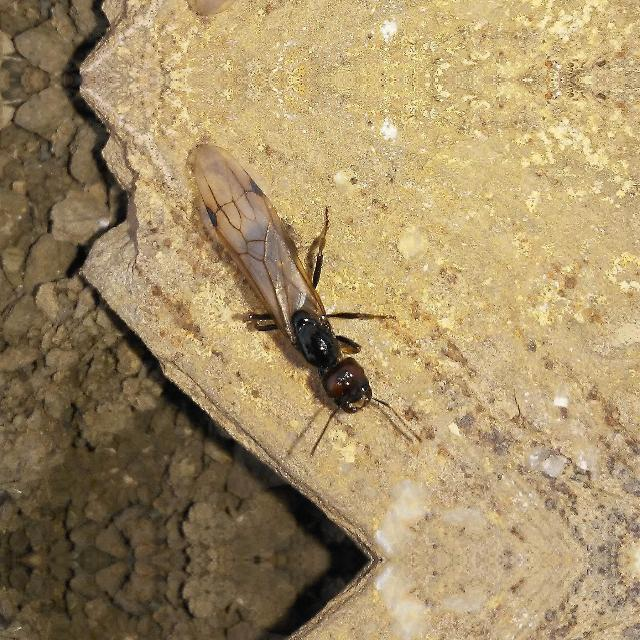Messor: (168, 135, 418, 445)
